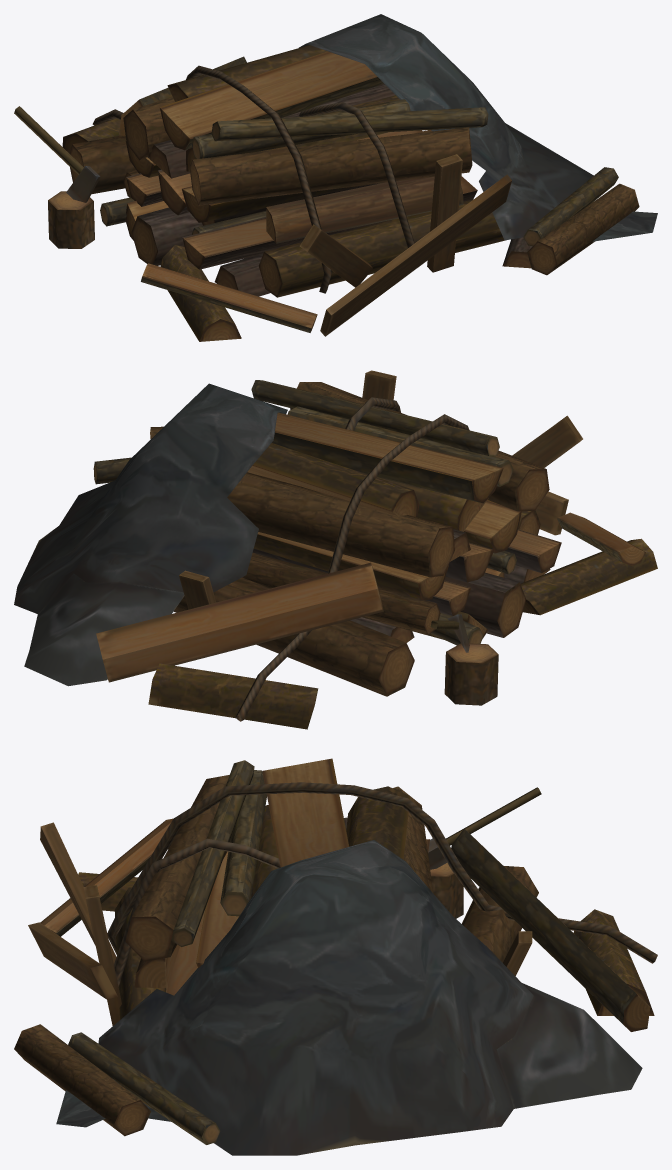
The model's file is mi_ruin001.FBX.
The picture shows the model from 3 angles, top to bottom: view 1: azimuth 30°, elevation 25°; view 2: azimuth 150°, elevation 25°; view 3: azimuth 270°, elevation 25°; orthographic projection. The views are drawn at different scales.
Parts seen in each view (by area): view 1: mi_ruin001; view 2: mi_ruin001; view 3: mi_ruin001.
Boxes of the visible parts, left/top/right/bottom form: mi_ruin001: left=14, top=14, right=657, bottom=341; mi_ruin001: left=14, top=370, right=657, bottom=729; mi_ruin001: left=14, top=758, right=657, bottom=1155.
Size of the model in its own units: 4.19 by 1.42 by 4.06.
Materials: 1 (1 with a texture image).
